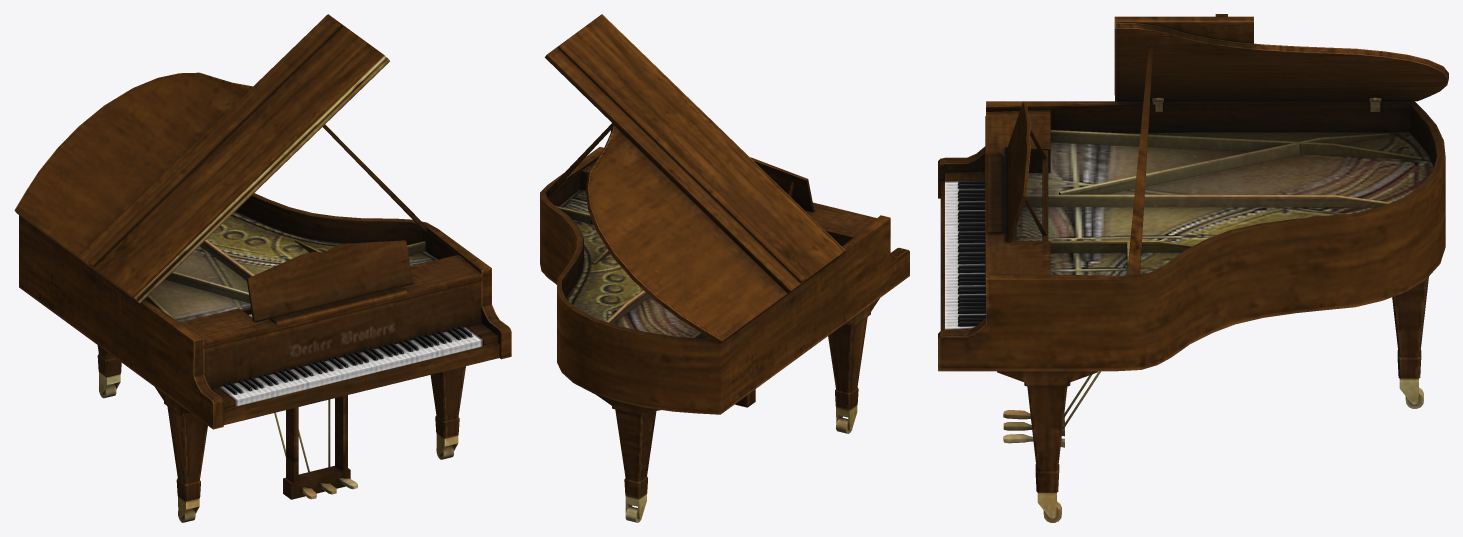
File: piano.FBX
3 views of the same model, side by side, from view 1: azimuth 30°, elevation 25°; view 2: azimuth 150°, elevation 25°; view 3: azimuth 270°, elevation 25° (orthographic). The views are drawn at different scales.
Parts seen in each view (by area): view 1: objpolymsh66; view 2: objpolymsh66; view 3: objpolymsh66.
Boxes of the visible parts, x1=… form: objpolymsh66: x1=14, y1=14, x2=511, y2=522; objpolymsh66: x1=540, y1=14, x2=909, y2=522; objpolymsh66: x1=938, y1=14, x2=1448, y2=522.
Size of the model in its own units: 172 by 212 by 203.
